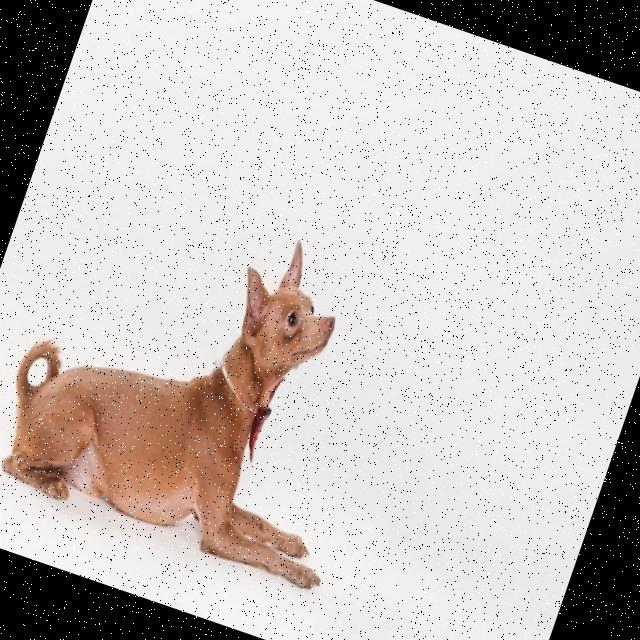Dog: (0, 164, 424, 592)
